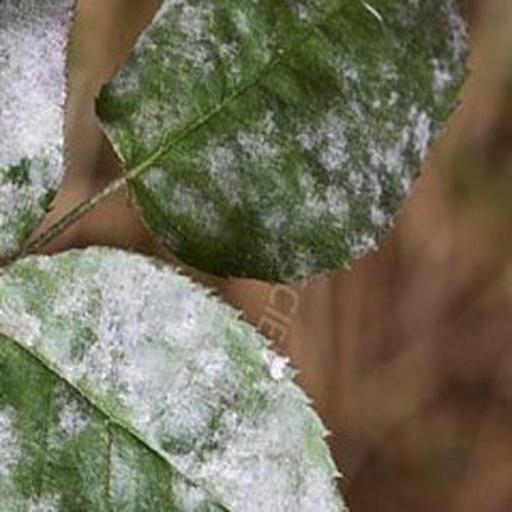powdery_mildew: (96, 0, 466, 280), (0, 248, 344, 512), (0, 0, 74, 256)
